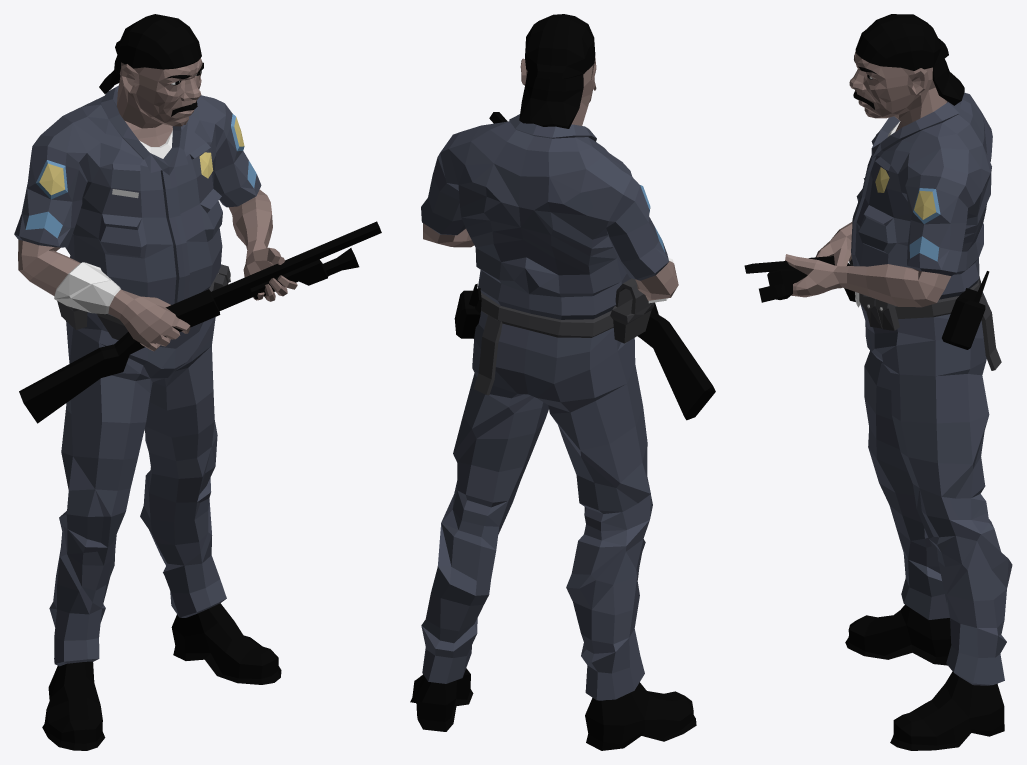
Rendered from KennethHall.fbx.
3 views of the same model, side by side, from view 1: azimuth 30°, elevation 25°; view 2: azimuth 150°, elevation 25°; view 3: azimuth 270°, elevation 25° (orthographic). The views are drawn at different scales.
Parts seen in each view (by area): view 1: KennethHall.obj; view 2: KennethHall.obj; view 3: KennethHall.obj.
Boxes of the visible parts, box(x1,y1,x2,y2) form: KennethHall.obj: box(14, 14, 381, 750); KennethHall.obj: box(410, 14, 715, 750); KennethHall.obj: box(744, 14, 1012, 750).
Size of the model in its own units: 78.92 by 178 by 64.27.
